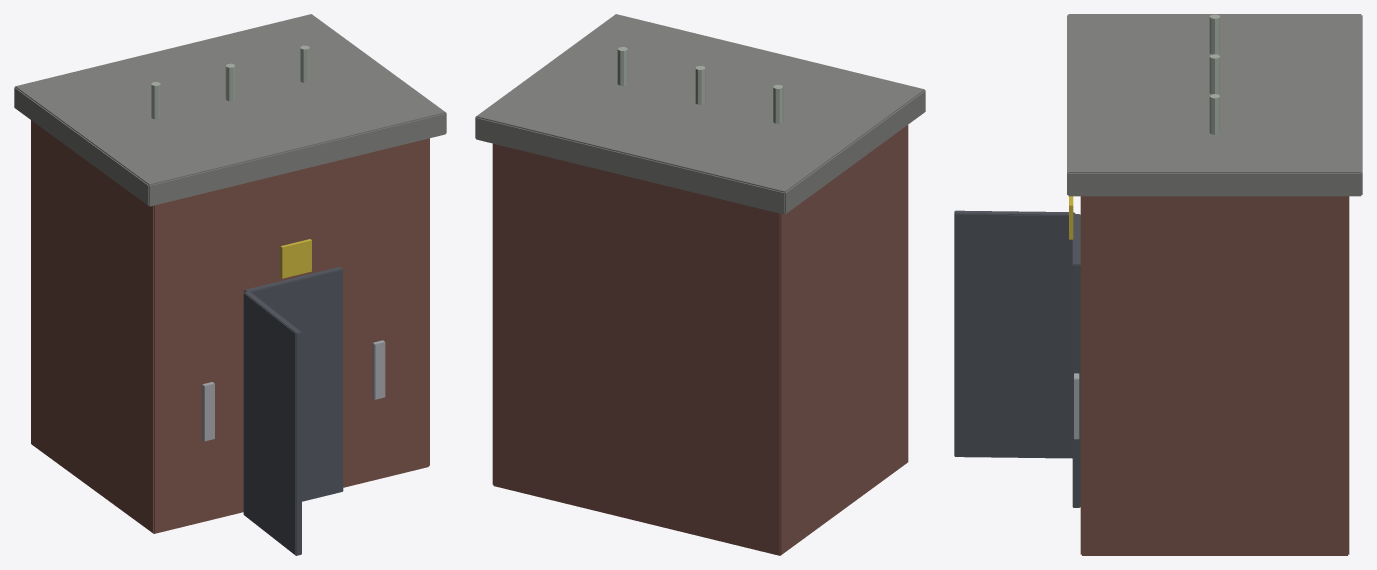
Rendered from transformer_booth.glb.
3 renders of one model, left to right at view 1: azimuth 30°, elevation 25°; view 2: azimuth 150°, elevation 25°; view 3: azimuth 270°, elevation 25°, orthographic. The views are drawn at different scales.
Visible parts, largest first — view 1: booth_mesh, door_mesh; view 2: booth_mesh; view 3: booth_mesh, door_mesh.
Part boxes in pixels (x1,y1,x2,y2): booth_mesh: (14,14,446,533); door_mesh: (243,291,301,555); booth_mesh: (475,14,925,555); booth_mesh: (1067,14,1362,555); door_mesh: (954,210,1075,458).
Size of what is drawn, in the model's own units: 2.8 by 3.5 by 3.04.
